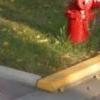Hydrant: (56, 4, 97, 54)
